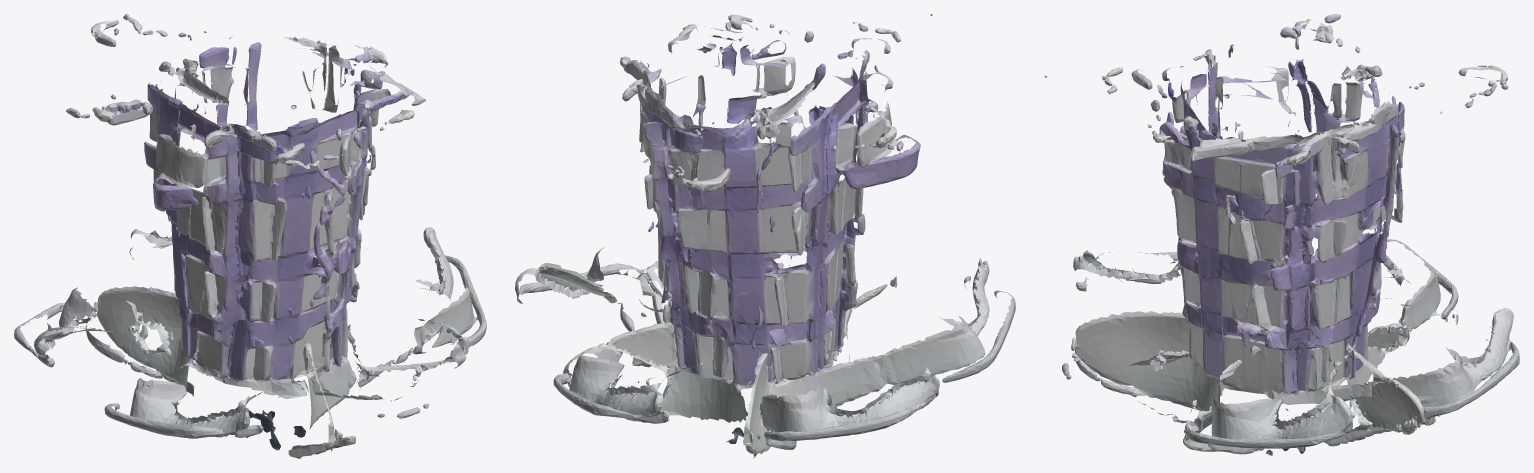
File: finished_model_20260511_161533.glb
3 renders of one model, left to right at view 1: azimuth 30°, elevation 25°; view 2: azimuth 150°, elevation 25°; view 3: azimuth 270°, elevation 25°, orthographic. The views are drawn at different scales.
Visible parts, largest first — view 1: finished_model_20260511_161533.ply; view 2: finished_model_20260511_161533.ply; view 3: finished_model_20260511_161533.ply.
Boxes of the visible parts, bbox=[...] form: finished_model_20260511_161533.ply: bbox=[14, 14, 486, 458]; finished_model_20260511_161533.ply: bbox=[515, 14, 1015, 458]; finished_model_20260511_161533.ply: bbox=[1044, 14, 1519, 455].
Bounding box in the file's own units: 0.1796 × 0.1518 × 0.1767.
